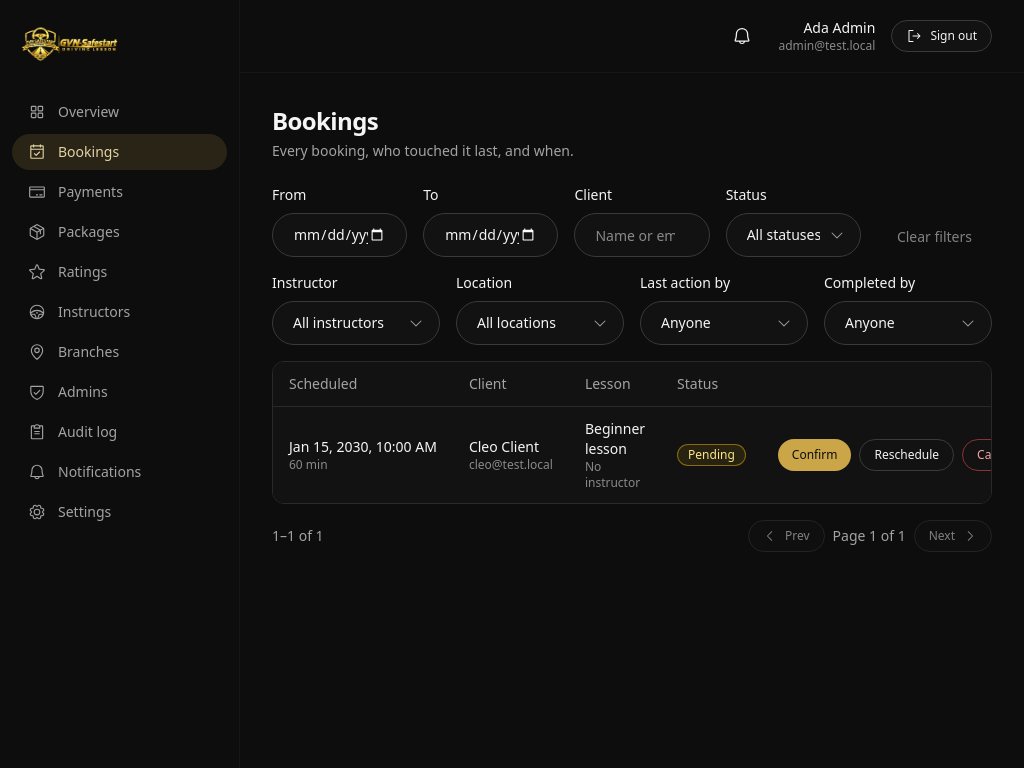
bookings › shows an invalid transition from the API inside the dialog
Click the button with aria-label "Confirm booking for Cleo Client": (815, 455) [778, 439, 852, 471]
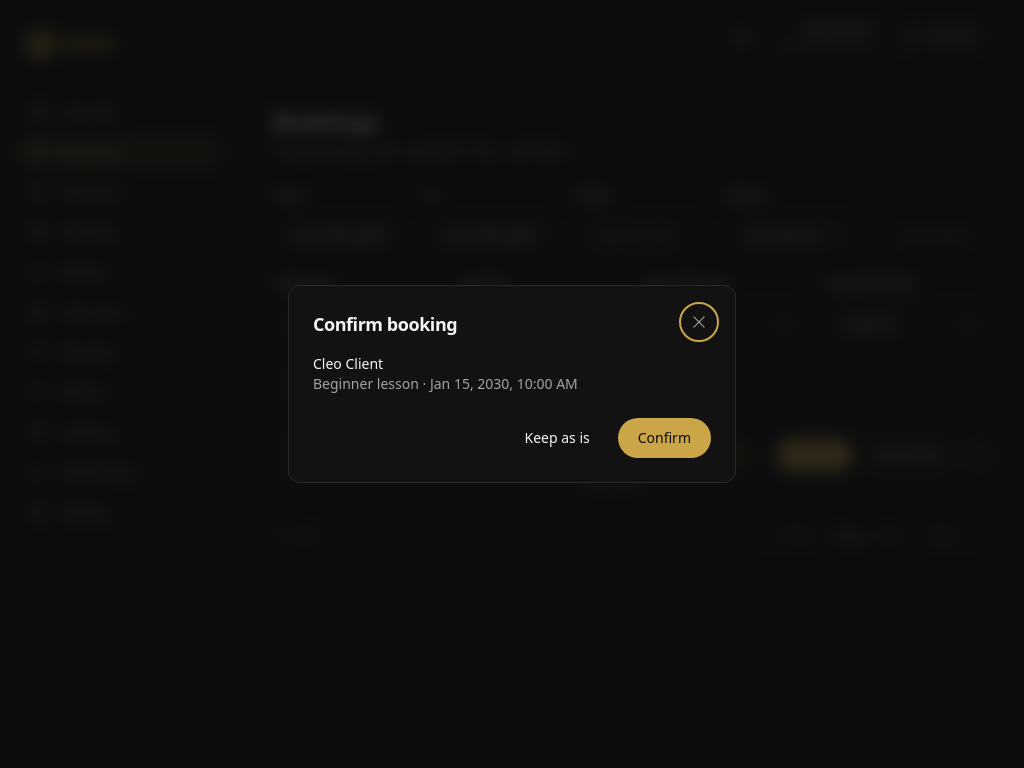
Click the button "Confirm": (664, 438) [618, 418, 711, 458]
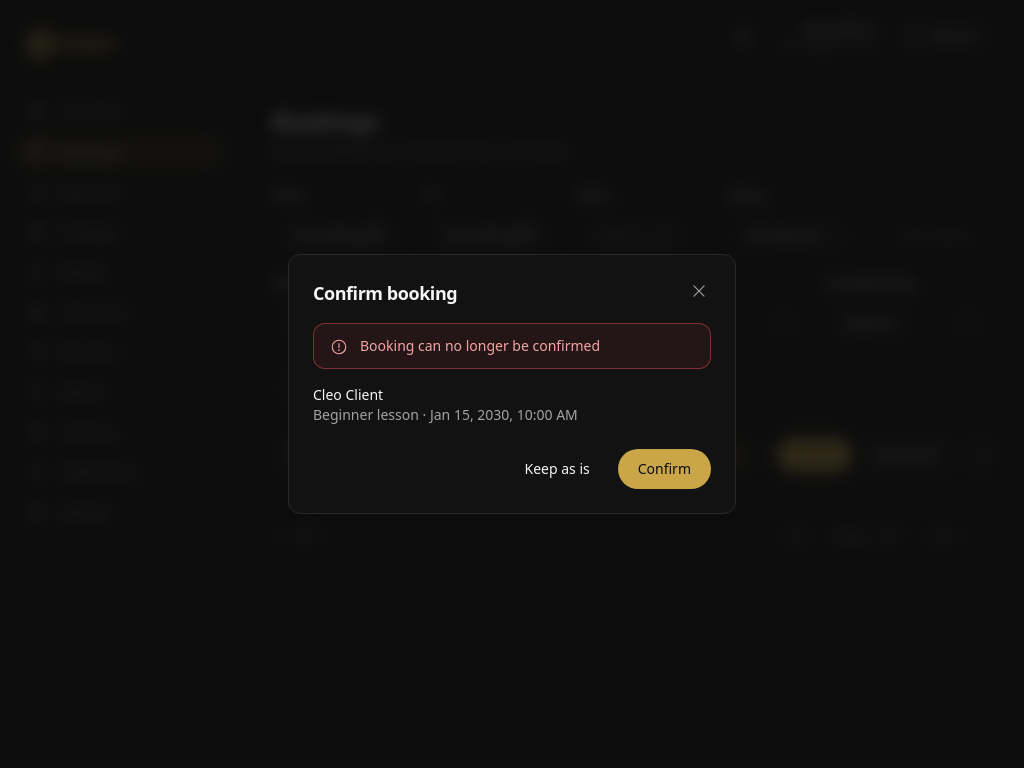
Now the message reads "Booking can no longer be confirmed", box [360, 336, 600, 355]
